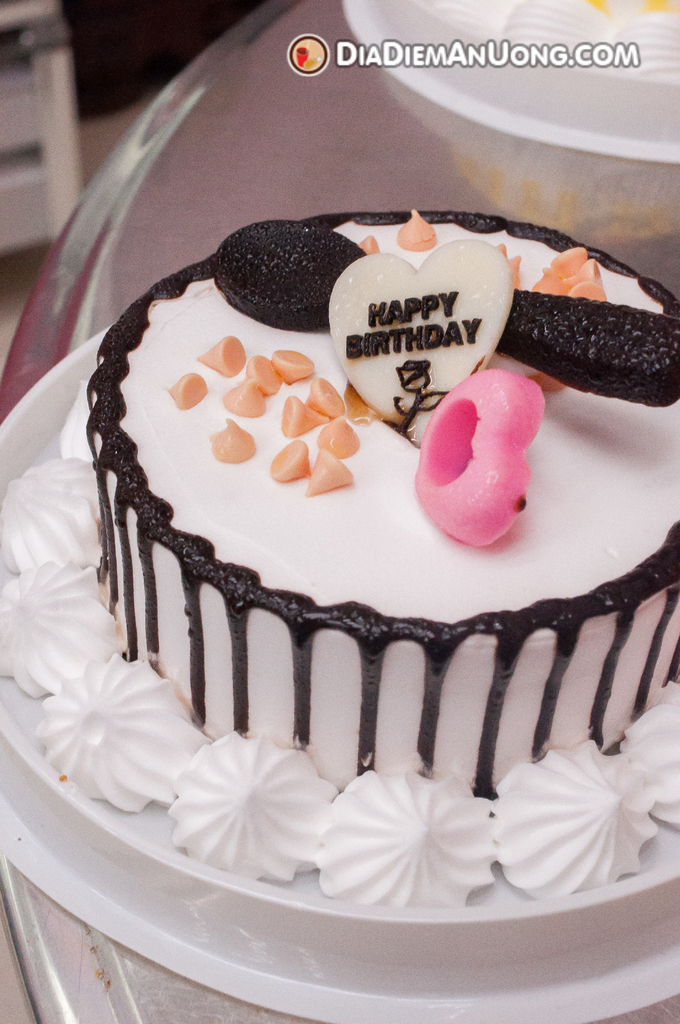cake: (0, 211, 679, 908)
